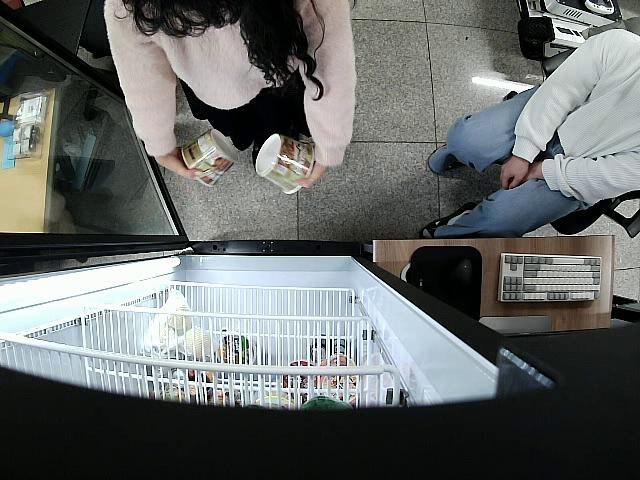03_chapagetti_L: (256, 130, 316, 196), (180, 131, 238, 188)
